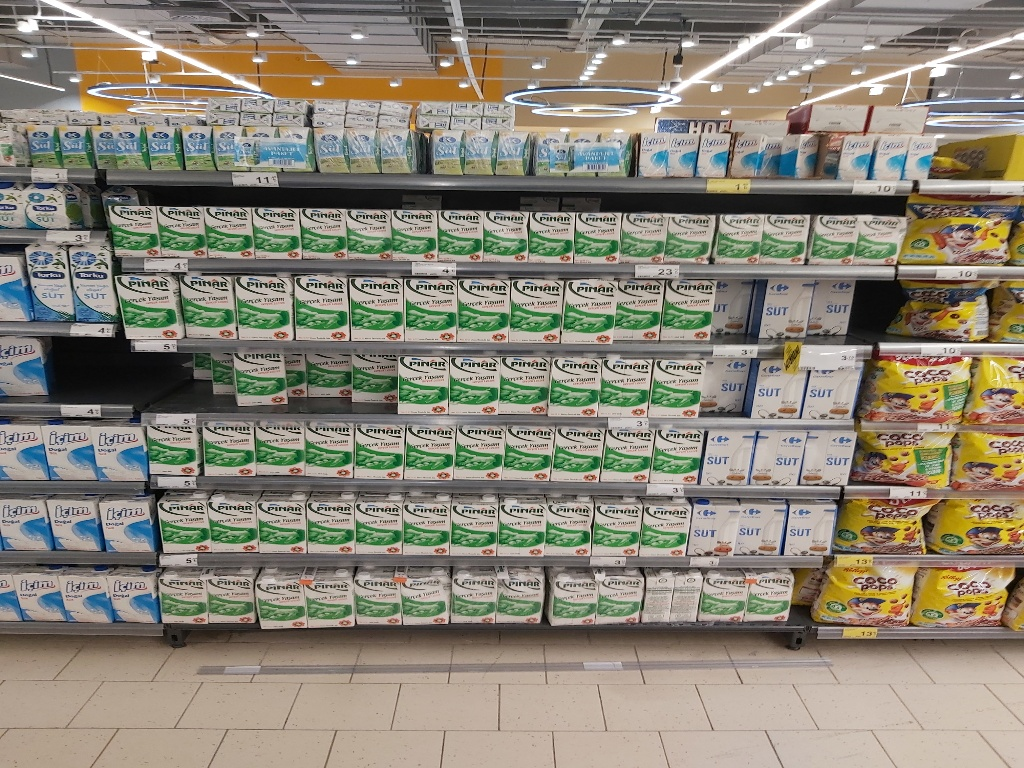urun: (905, 198, 1024, 270), (865, 357, 974, 428), (819, 561, 924, 632), (915, 561, 1024, 626), (899, 278, 996, 343), (852, 430, 955, 489), (836, 497, 931, 556), (929, 497, 1024, 556), (115, 269, 183, 344), (946, 435, 1024, 495), (179, 270, 237, 346), (348, 268, 406, 343), (402, 274, 460, 349), (291, 270, 348, 346), (237, 269, 294, 344), (24, 242, 73, 326), (65, 242, 114, 326), (509, 274, 563, 346), (566, 271, 620, 343), (456, 271, 509, 343), (236, 346, 291, 413), (800, 365, 860, 426), (663, 275, 716, 342), (611, 275, 663, 342), (762, 276, 814, 343), (298, 413, 352, 477), (353, 412, 407, 476), (452, 416, 506, 480), (499, 413, 553, 477), (550, 420, 604, 484), (1, 334, 51, 403), (691, 494, 741, 563), (151, 416, 204, 480), (252, 415, 305, 479), (401, 415, 454, 479), (201, 416, 253, 480), (600, 358, 653, 419), (600, 421, 652, 483), (703, 356, 750, 424), (399, 353, 452, 413), (451, 355, 503, 415), (502, 351, 554, 411), (552, 353, 604, 413), (652, 355, 704, 415), (652, 419, 703, 480), (703, 422, 753, 484), (753, 426, 803, 488), (46, 416, 93, 481), (96, 420, 143, 485), (805, 429, 855, 490), (1, 417, 47, 483), (753, 369, 809, 421), (307, 492, 358, 549), (159, 495, 209, 553), (207, 494, 257, 552), (257, 494, 307, 552), (357, 494, 407, 552), (402, 494, 452, 552), (449, 494, 499, 552), (812, 275, 855, 342), (49, 497, 99, 554), (102, 497, 152, 554), (498, 497, 548, 554), (596, 497, 646, 554), (639, 497, 689, 554), (1, 498, 50, 556), (547, 494, 596, 552), (156, 198, 204, 257), (252, 196, 300, 255), (436, 200, 484, 259), (481, 202, 529, 261), (668, 209, 716, 268), (856, 209, 904, 268), (109, 198, 156, 257), (206, 197, 253, 256), (300, 198, 347, 257), (343, 200, 390, 259), (393, 201, 440, 260), (526, 205, 573, 264), (621, 207, 668, 266), (716, 206, 763, 265), (763, 206, 810, 265), (812, 209, 859, 268), (786, 498, 836, 553), (355, 344, 396, 411), (575, 204, 622, 262), (12, 568, 58, 626), (58, 564, 104, 622), (156, 567, 202, 625), (209, 564, 255, 622), (257, 567, 303, 625), (307, 564, 353, 622), (356, 564, 402, 622), (452, 562, 498, 620), (502, 563, 548, 621), (547, 563, 593, 621), (740, 506, 790, 559), (108, 570, 154, 627), (401, 561, 447, 618), (599, 566, 645, 623), (307, 343, 349, 403), (700, 566, 745, 620), (26, 184, 72, 236), (745, 570, 790, 623), (641, 567, 675, 622), (671, 563, 704, 618), (836, 129, 870, 179), (876, 127, 910, 177), (908, 125, 942, 175), (493, 124, 527, 173), (530, 124, 564, 173), (637, 127, 669, 175), (58, 122, 86, 172), (90, 119, 118, 169), (115, 120, 143, 170), (146, 122, 174, 172), (183, 120, 211, 170), (211, 119, 239, 169), (311, 120, 339, 170), (347, 120, 375, 170), (376, 123, 404, 173), (433, 124, 461, 174), (462, 122, 490, 172), (667, 125, 695, 174), (699, 127, 727, 175)
urun2: (29, 120, 58, 170)
